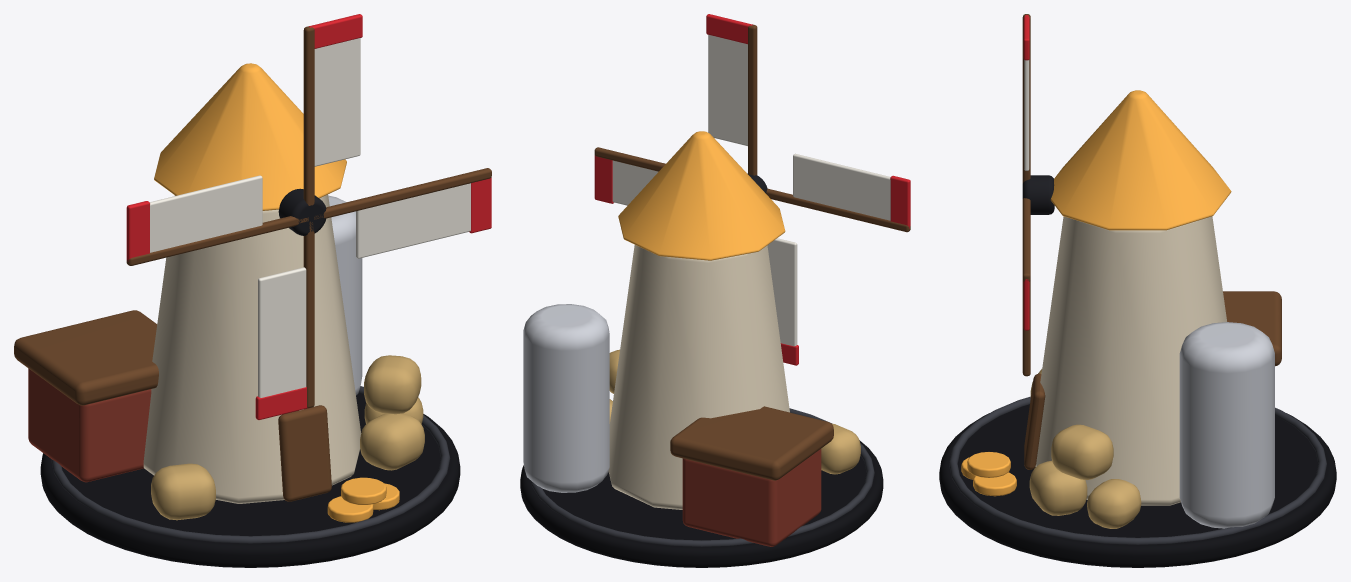
File: moelle.glb
3 views of the same model, side by side, from view 1: azimuth 30°, elevation 25°; view 2: azimuth 150°, elevation 25°; view 3: azimuth 270°, elevation 25° (orthographic). The views are drawn at different scales.
Visible parts, largest first — view 1: hus_net, spin_net, fod_net, op2_net, op4_net, op1_net, op3_net, op4.001_net, op3.002_net, op3.001_net, op3.003_net, op3.004_net; view 2: hus_net, fod_net, op2_net, spin_net, op3_net, op4_net, op1_net, op3.002_net, op3.001_net, op3.004_net; view 3: hus_net, fod_net, op3_net, op4_net, spin_net, op1_net, op2_net, op4.001_net.
Boxes of the visible parts, x1,y1,x2,y2 form: hus_net: [143, 194, 424, 503]; spin_net: [126, 26, 491, 408]; fod_net: [40, 386, 460, 567]; op2_net: [14, 310, 158, 482]; op4_net: [154, 63, 346, 210]; op1_net: [151, 355, 421, 520]; op3_net: [328, 195, 362, 395]; op4.001_net: [327, 477, 399, 522]; op3.002_net: [126, 201, 149, 261]; op3.001_net: [309, 14, 362, 48]; op3.003_net: [255, 387, 307, 419]; op3.004_net: [469, 177, 491, 233]; hus_net: [608, 245, 789, 509]; fod_net: [520, 408, 883, 567]; op2_net: [670, 406, 833, 546]; spin_net: [594, 24, 910, 346]; op3_net: [523, 304, 609, 492]; op4_net: [618, 131, 785, 260]; op1_net: [609, 349, 860, 474]; op3.002_net: [890, 175, 910, 228]; op3.001_net: [706, 14, 752, 44]; op3.004_net: [594, 155, 613, 203]; hus_net: [1024, 216, 1226, 528]; fod_net: [939, 396, 1336, 567]; op3_net: [1179, 322, 1274, 528]; op4_net: [1050, 90, 1231, 230]; spin_net: [1022, 14, 1054, 376]; op1_net: [1030, 369, 1113, 479]; op2_net: [1223, 291, 1281, 366]; op4.001_net: [961, 452, 1016, 496].
Size of the model in its own units: 2 by 2.62 by 2.
